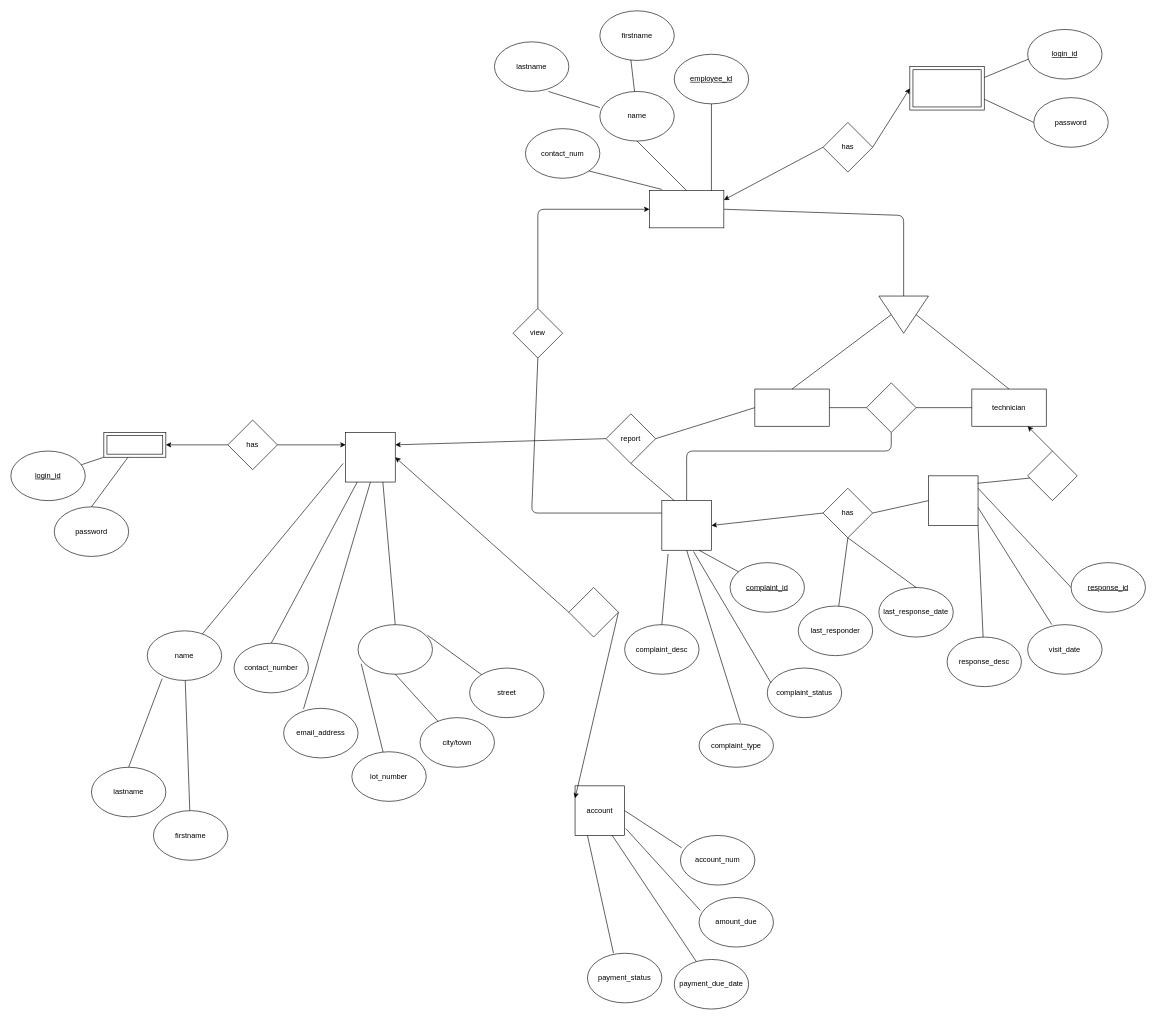
Some shapes in this 1156 by 1020 pixel diagram are drawn without their labels. Here are the shapes that lost their labels. From the top down, the box of each, then its label:
(909, 66, 984, 110): emp_login
(649, 190, 724, 228): employee
(878, 295, 928, 333): IS A
(754, 388, 829, 426): representative
(866, 382, 916, 432): assign to
(103, 432, 166, 457): cust_login
(345, 432, 395, 482): customer
(1027, 450, 1077, 501): give
(928, 475, 978, 525): response
(661, 500, 711, 550): complaint
(568, 587, 618, 637): query
(357, 624, 432, 674): address
